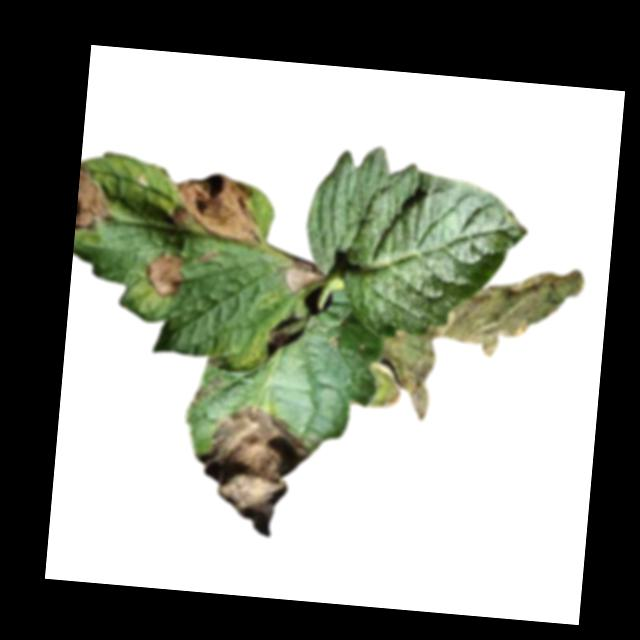Late_blight: (190, 401, 316, 541), (437, 258, 585, 365), (163, 168, 269, 248), (371, 328, 437, 424), (75, 162, 116, 234), (143, 250, 184, 300), (280, 255, 326, 294), (190, 373, 225, 410), (263, 324, 292, 362), (194, 248, 217, 264)
healthy: (295, 139, 534, 350)
